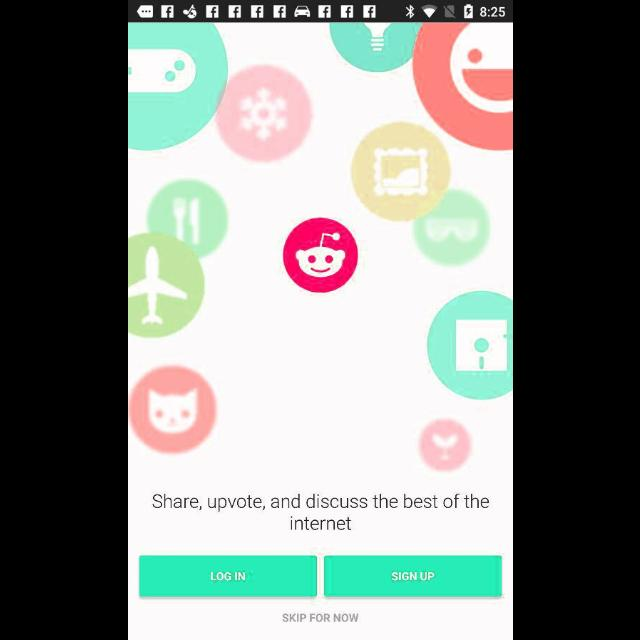image: (128, 24, 512, 474)
text: (152, 494, 488, 530), (282, 613, 358, 623)
textbutton: (323, 555, 501, 597), (139, 555, 317, 597)
uppertaskbar: (128, 1, 512, 23)
